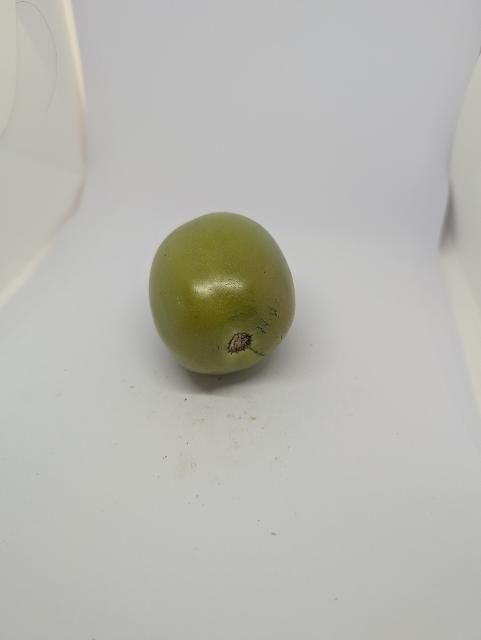green: (139, 209, 297, 386)
